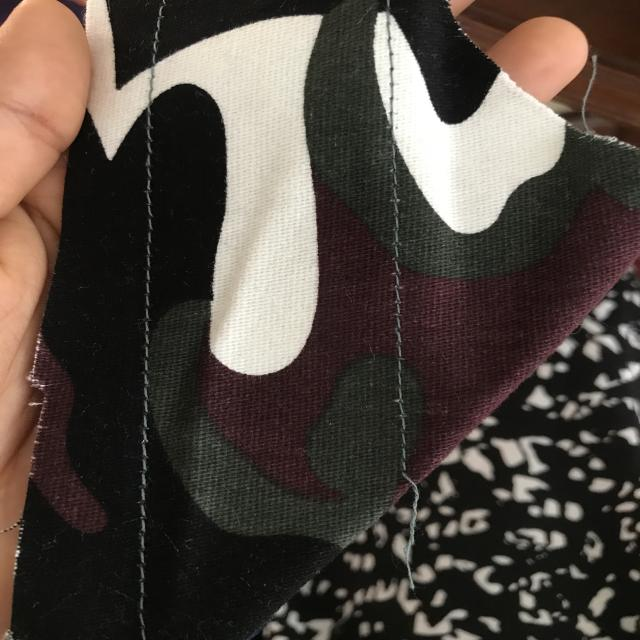good: (119, 287, 174, 418)
